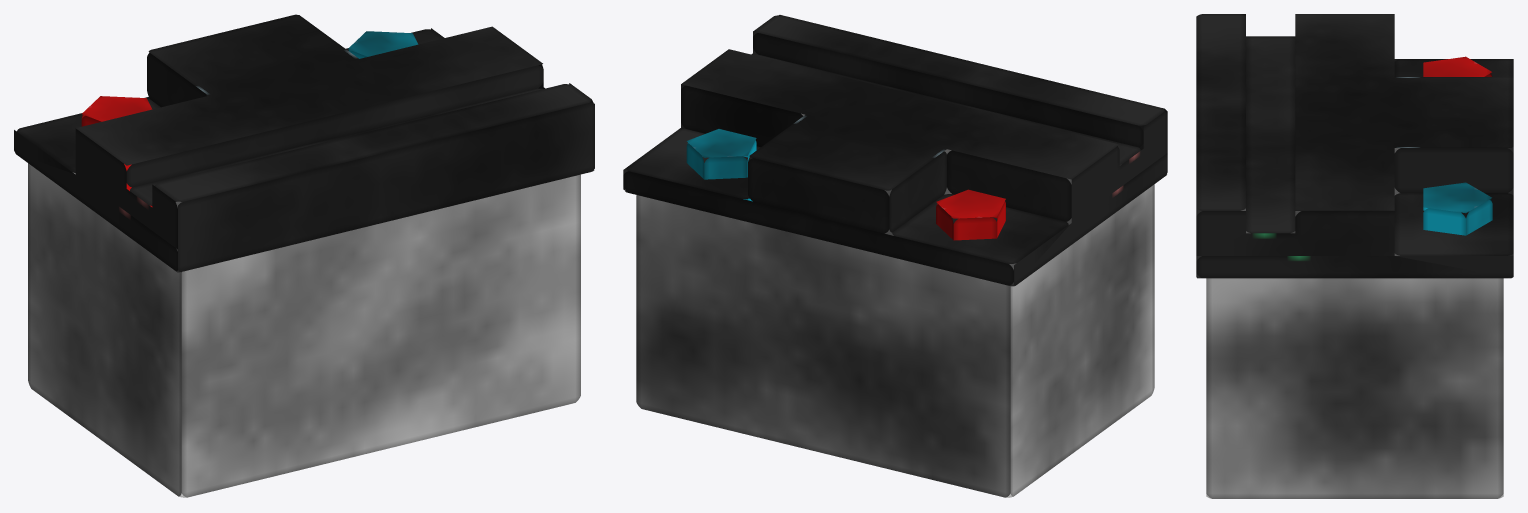
Rendered from Boat Battery.obj.
The picture shows the model from 3 angles, left to right: view 1: azimuth 30°, elevation 25°; view 2: azimuth 150°, elevation 25°; view 3: azimuth 270°, elevation 25°; orthographic projection. The views are drawn at different scales.
Parts seen in each view (by area): view 1: Battery; view 2: Battery; view 3: Battery.
Boxes of the visible parts, <box> form: Battery: <box>14,14,594,497</box>; Battery: <box>623,15,1167,497</box>; Battery: <box>1196,14,1513,498</box>.
Size of the model in its own units: 1.17 by 0.8125 by 0.8.
